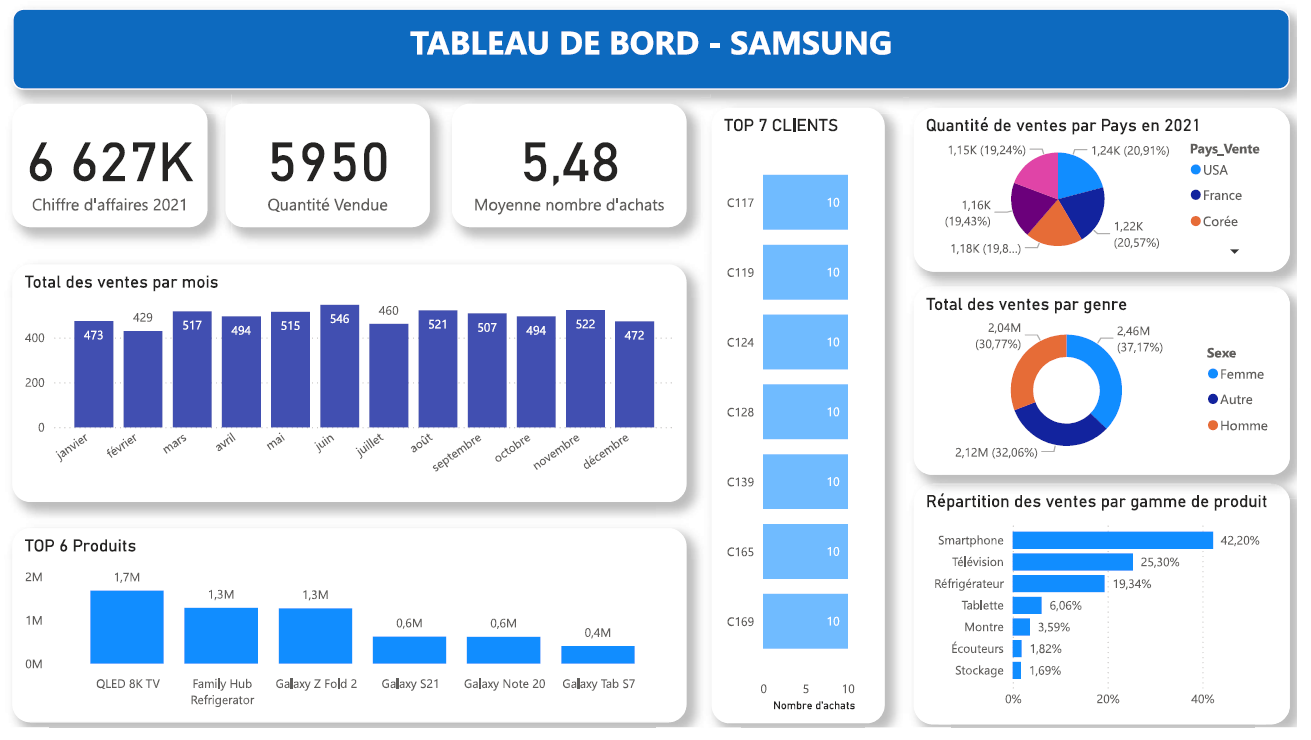

Layout of this report page (visuals, bound fields, positions):
{"tool":"powerbi","page":{"name":"Page 1","canvas":[1280,720],"ordinal":0},"visuals":[{"type":"textbox","box":[0,9,1280,80],"z":0},{"type":"columnChart","title":"TOP 6 Produits","fields":{"Category":["Produits_Samsung.Nom_Produit"],"Y":["Sum(Ventes_Samsung.Montant_Total)"]},"box":[0,520,676,200],"z":1000},{"type":"barChart","title":"TOP 7 CLIENTS","fields":{"Category":["Clients_Samsung.ID_Client"],"Y":["Sum(Clients_Samsung.Nombre_Achats)"]},"box":[701,108,171,612],"z":2000},{"type":"card","fields":{"Values":["Sum(Ventes_Samsung.Montant_Total)"]},"box":[0,103,202,122],"z":3000},{"type":"card","fields":{"Values":["Sum(Ventes_Samsung.Quantité_Vendue)"]},"box":[220,103,202,122],"z":4000},{"type":"card","fields":{"Values":["Avg(Clients_Samsung.Nombre_Achats)"]},"box":[444,103,232,122],"z":5000},{"type":"columnChart","title":"Total des ventes par mois","fields":{"Y":["Sum(Ventes_Samsung.Quantité_Vendue)"],"Category":["Ventes_Samsung.Date_Vente.Variation.Hiérarchie de dates.Mois"]},"box":[0,262,676,235],"z":6000},{"type":"clusteredBarChart","title":"Répartition des ventes par gamme de produit","fields":{"Category":["Produits_Samsung.Sous-catégorie"],"Y":["Sum(Ventes_Samsung.Montant_Total)"]},"box":[901,486,379,234],"z":7000},{"type":"donutChart","title":" Total des ventes par genre ","fields":{"Category":["Clients_Samsung.Sexe"],"Y":["Sum(Ventes_Samsung.Montant_Total)"]},"box":[901,290,379,186],"z":8000},{"type":"pieChart","title":"Quantité de ventes par Pays en 2021","fields":{"Category":["Ventes_Samsung.Pays_Vente"],"Y":["Sum(Ventes_Samsung.Quantité_Vendue)"]},"box":[901,108,379,162],"z":9000}]}

Visuals, with their boxes in screenshot pixels (x1, y1, x2, y2), scaled from the page's 1280x720 canvas onto the 1311x740 screenshot:
textbox: bbox=[0, 9, 1310, 91]
"TOP 6 Produits" columnChart: bbox=[0, 534, 692, 739]
"TOP 7 CLIENTS" barChart: bbox=[718, 111, 893, 739]
card - Sum(Ventes_Samsung.Montant_Total): bbox=[0, 106, 207, 231]
card - Sum(Ventes_Samsung.Quantité_Vendue): bbox=[225, 106, 432, 231]
card - Avg(Clients_Samsung.Nombre_Achats): bbox=[455, 106, 692, 231]
"Total des ventes par mois" columnChart: bbox=[0, 269, 692, 511]
"Répartition des ventes par gamme de produit" clusteredBarChart: bbox=[923, 499, 1310, 739]
" Total des ventes par genre " donutChart: bbox=[923, 298, 1310, 489]
"Quantité de ventes par Pays en 2021" pieChart: bbox=[923, 111, 1310, 278]
